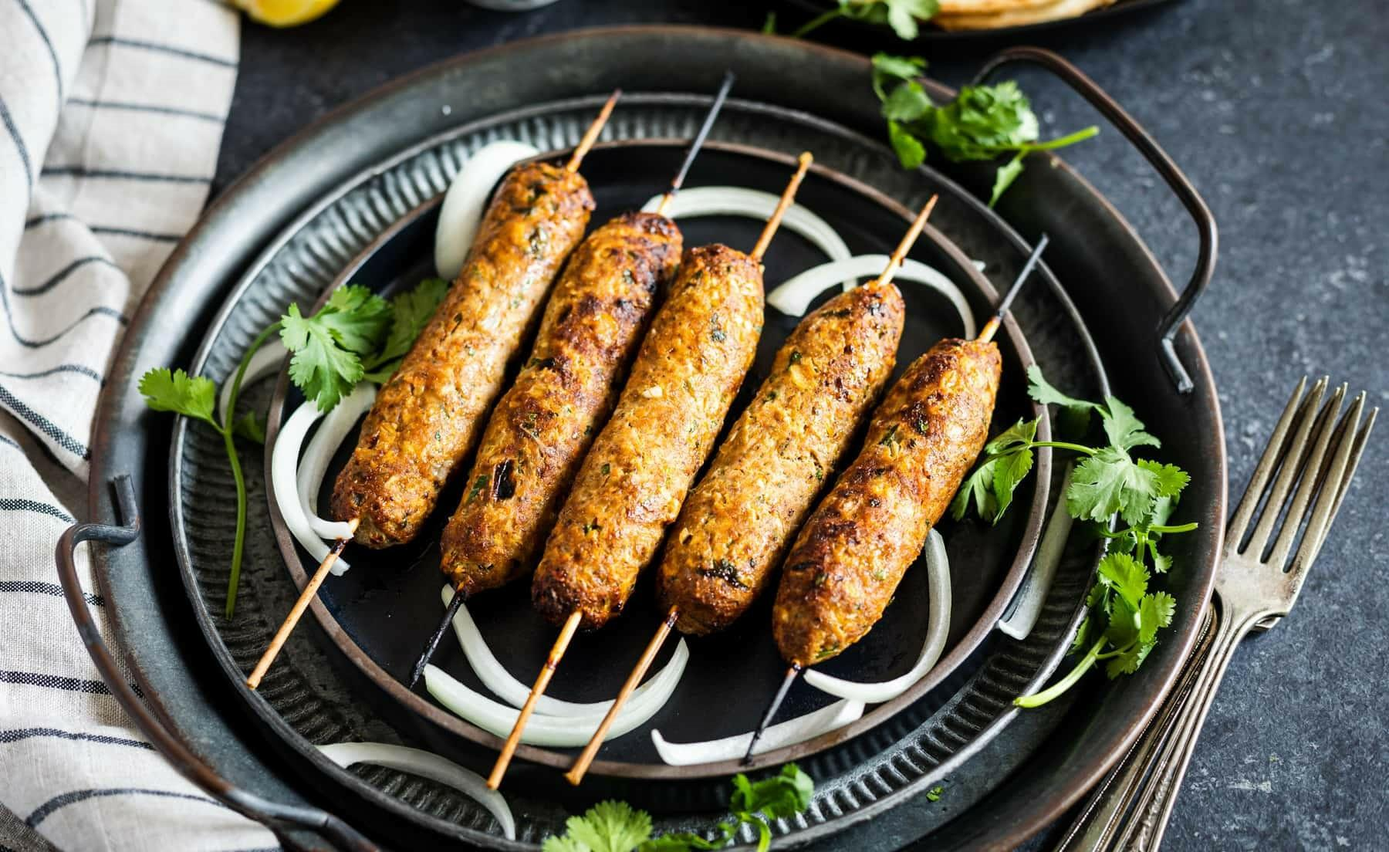Kebab: (344, 159, 592, 544), (442, 211, 685, 592), (541, 242, 762, 624), (662, 280, 904, 621), (780, 340, 1001, 657)
